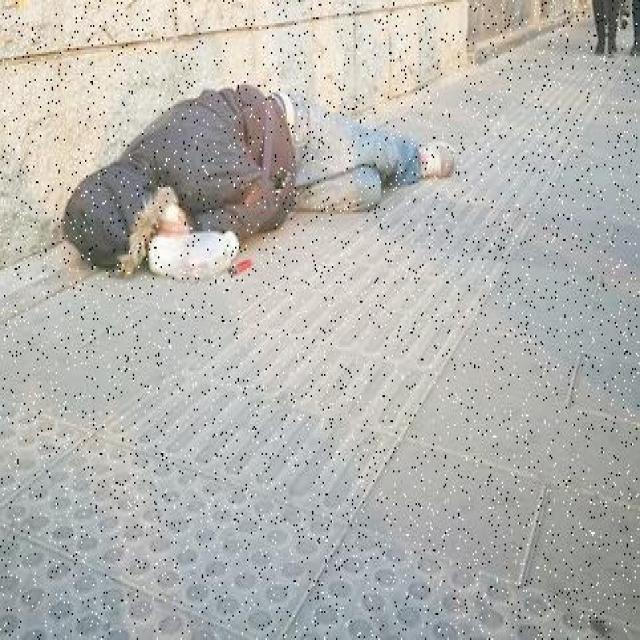fall: (89, 90, 450, 270)
